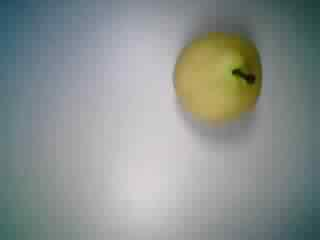pear: (161, 24, 272, 134)
